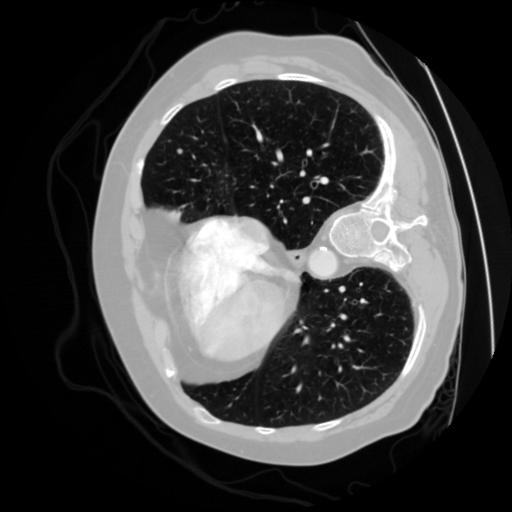nodule: (173, 144, 187, 158)
